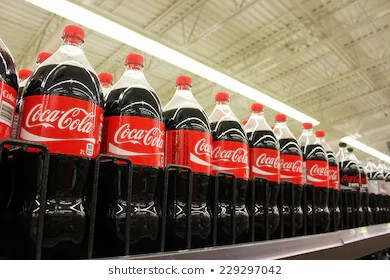coke-bottle-2l: (19, 21, 103, 256), (101, 52, 167, 247), (162, 71, 217, 244), (207, 90, 255, 241), (246, 99, 286, 237), (272, 113, 308, 235), (296, 121, 331, 230), (337, 141, 367, 225)
